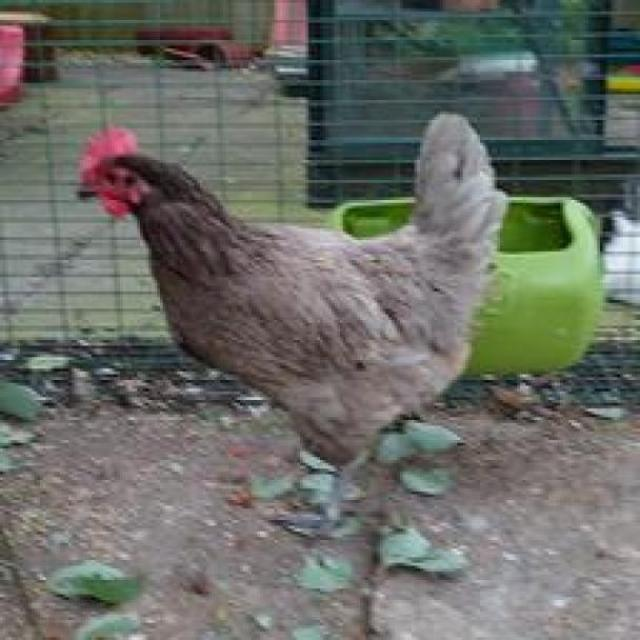Chicken: (74, 107, 532, 537)
